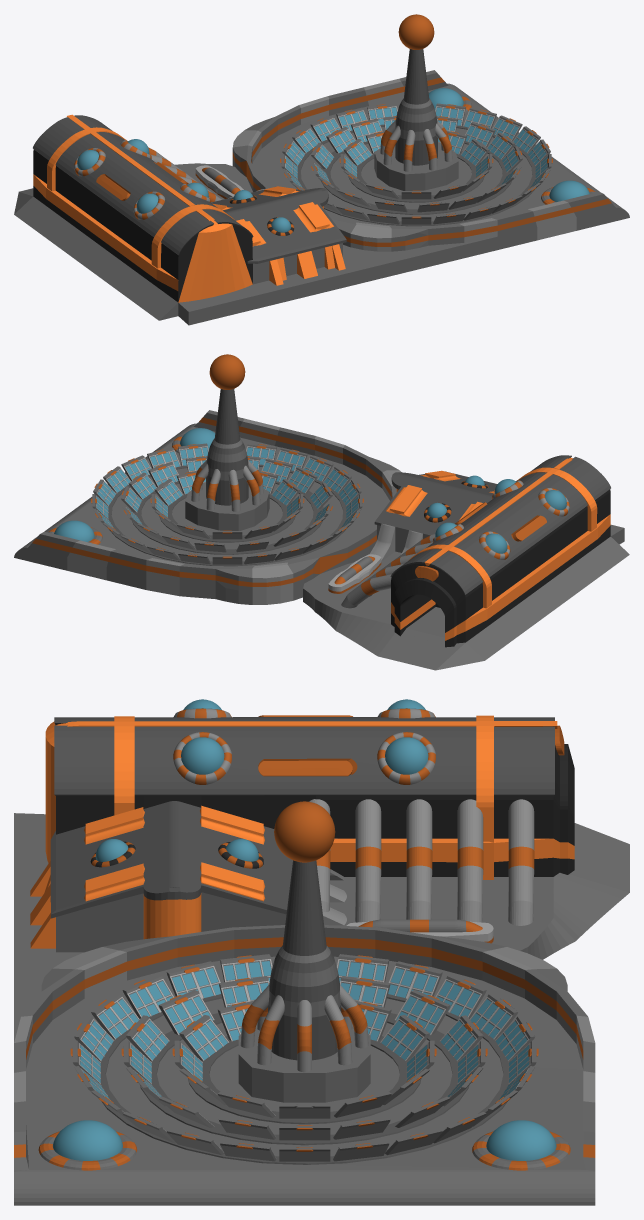
File: photovoltaic_power_plant.glb
3 renders of one model, top to bottom at view 1: azimuth 30°, elevation 25°; view 2: azimuth 150°, elevation 25°; view 3: azimuth 270°, elevation 25°, orthographic. The views are drawn at different scales.
Parts seen in each view (by area): view 1: Object_2, Object_5, Object_3, Object_8, Object_9, Object_11, Object_12, Object_4, Object_7, Object_10; view 2: Object_2, Object_5, Object_9, Object_8, Object_12, Object_11, Object_3, Object_4, Object_7, Object_10; view 3: Object_2, Object_5, Object_8, Object_9, Object_3, Object_11, Object_12, Object_7, Object_4, Object_10.
Boxes of the visible parts, <box> form: Object_2: <box>14,70,629,325</box>; Object_5: <box>33,49,437,263</box>; Object_3: <box>33,114,345,302</box>; Object_8: <box>77,88,589,232</box>; Object_9: <box>74,79,576,251</box>; Object_11: <box>96,77,611,246</box>; Object_12: <box>33,149,293,302</box>; Object_4: <box>195,106,547,222</box>; Object_7: <box>297,124,535,225</box>; Object_10: <box>74,14,434,235</box>; Object_2: <box>14,410,629,670</box>; Object_5: <box>206,389,610,595</box>; Object_9: <box>67,418,569,608</box>; Object_8: <box>54,428,566,553</box>; Object_12: <box>391,481,610,647</box>; Object_11: <box>32,417,546,595</box>; Object_3: <box>386,457,610,640</box>; Object_4: <box>96,446,381,591</box>; Object_7: <box>108,464,346,565</box>; Object_10: <box>209,354,569,559</box>; Object_2: <box>14,813,629,1205</box>; Object_5: <box>50,717,554,1060</box>; Object_8: <box>53,699,556,1160</box>; Object_9: <box>14,708,595,1102</box>; Object_3: <box>30,715,574,948</box>; Object_11: <box>14,715,595,1170</box>; Object_12: <box>56,744,574,876</box>; Object_7: <box>100,994,509,1163</box>; Object_4: <box>79,921,530,1158</box>; Object_10: <box>91,708,435,868</box>.
Size of the model in its own units: 71.27 by 25.64 by 48.31.
